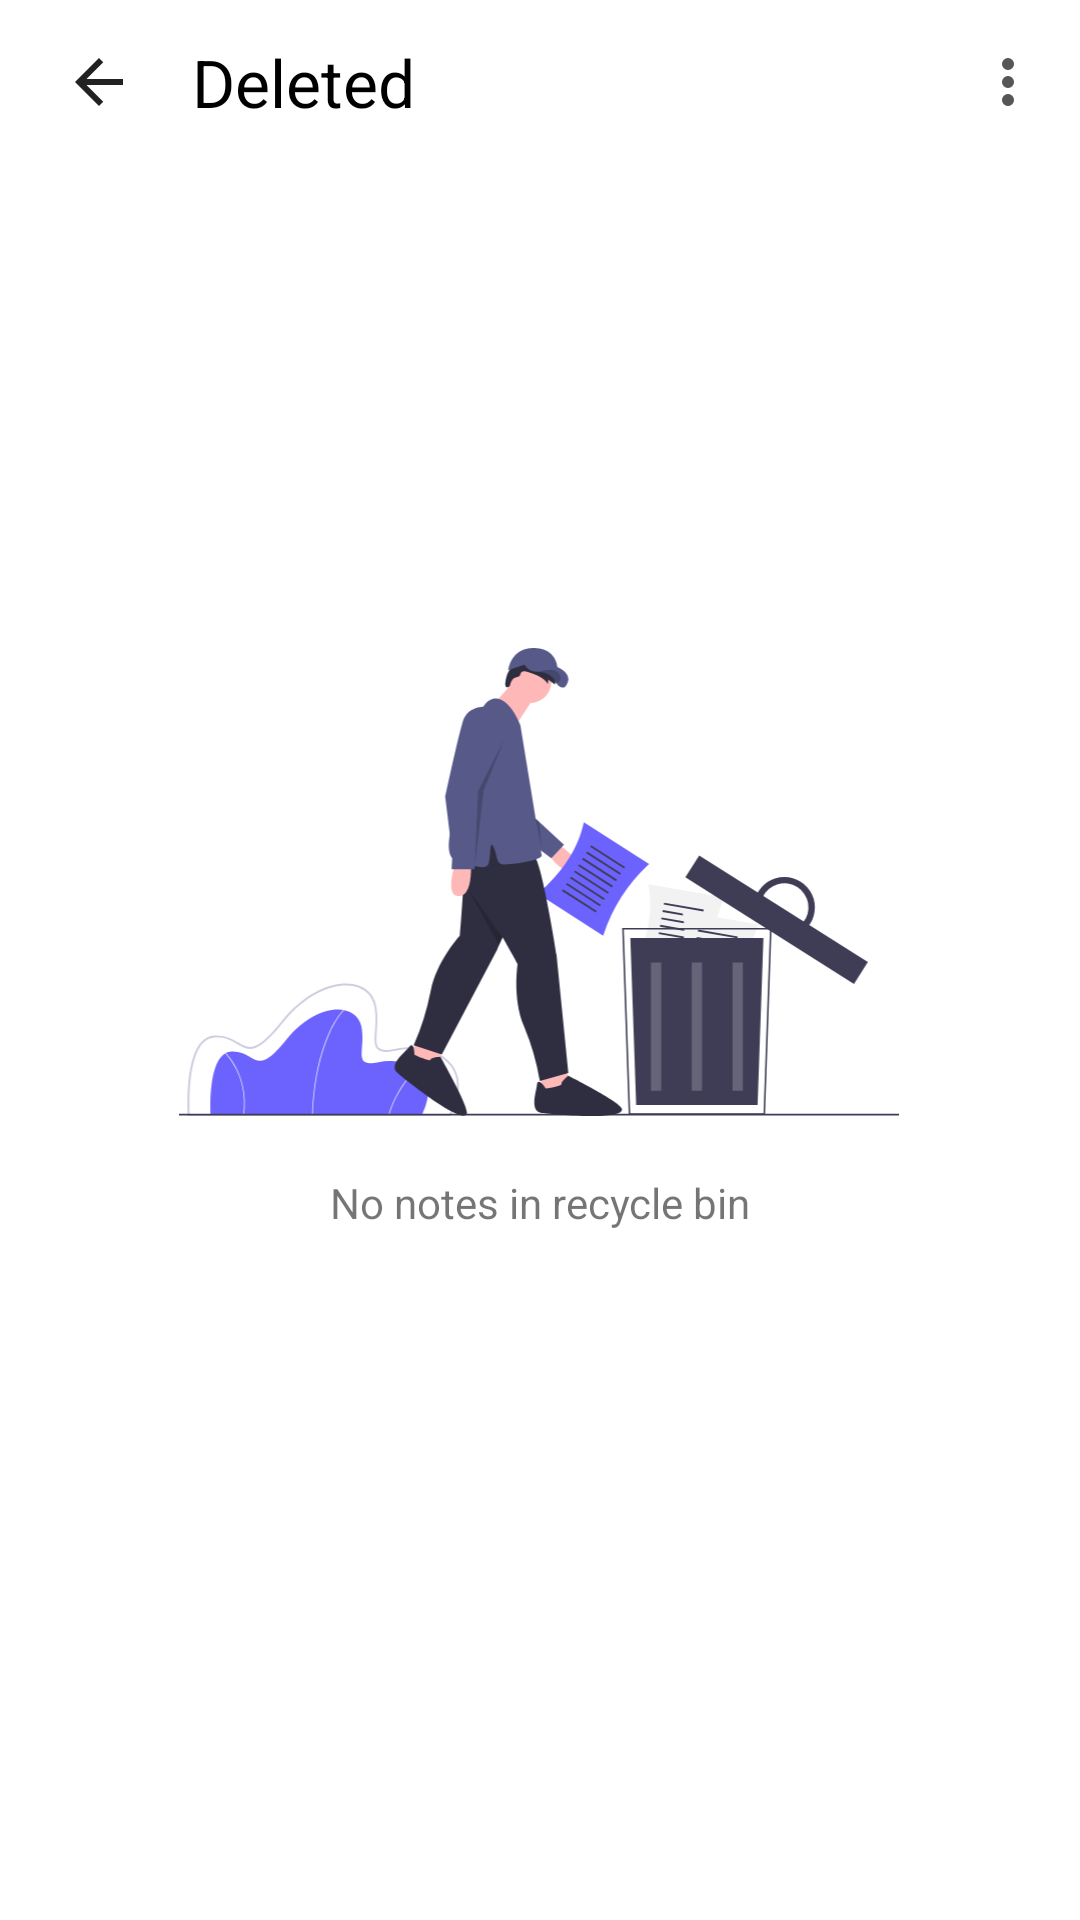

Locate icon controls on the screen. Image size 1080 × 1920, boxes as box(x1, y1, x2, y2).
arrow back: box(75, 58, 123, 106)
